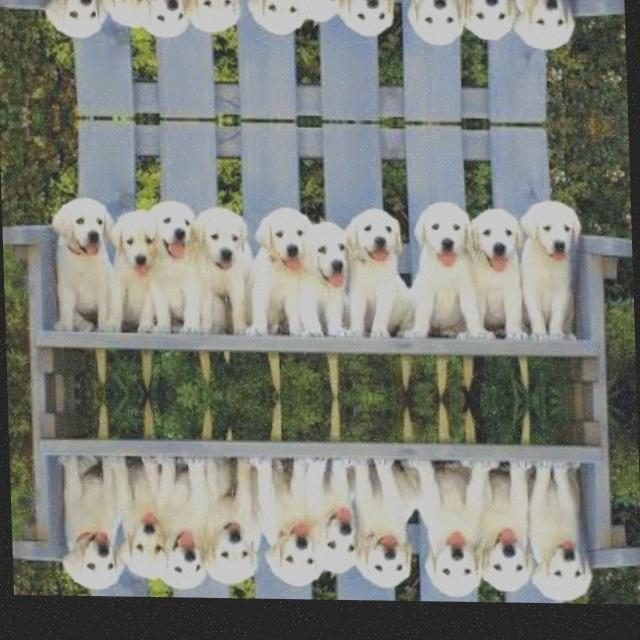dog: (408, 192, 488, 345), (416, 451, 496, 602), (51, 168, 122, 328), (342, 192, 412, 348), (350, 447, 420, 601), (60, 458, 130, 596), (522, 198, 580, 359), (530, 442, 588, 603), (201, 182, 250, 334), (209, 456, 258, 598), (42, 0, 114, 65), (399, 0, 478, 53), (334, 0, 403, 52), (513, 0, 570, 50), (192, 0, 241, 56)
